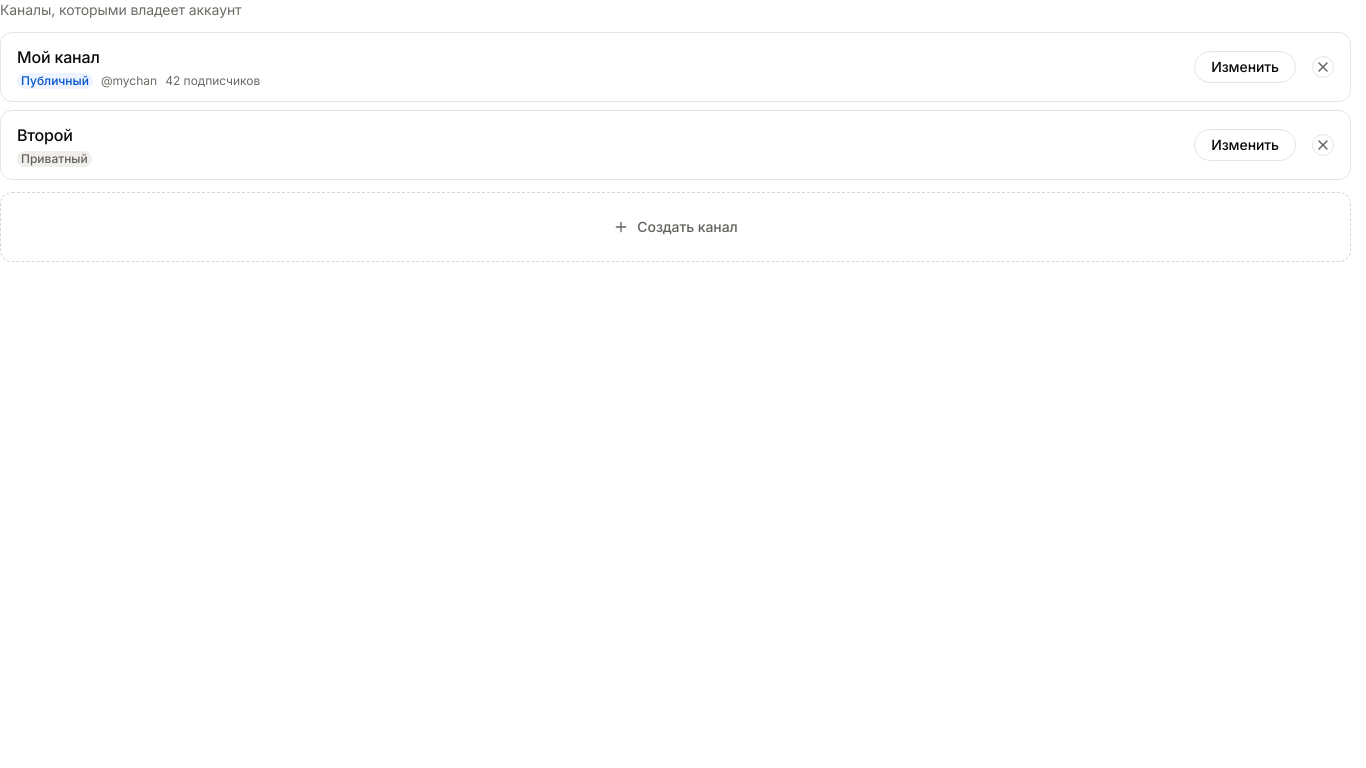
the edit button opens the channel editor with the live detail
Expected: the text "Мой канал" is shown, [17, 47, 100, 67]
Click the button "Изменить" in the row of "42 подписчиков" at [1245, 67], box [1194, 51, 1296, 83]
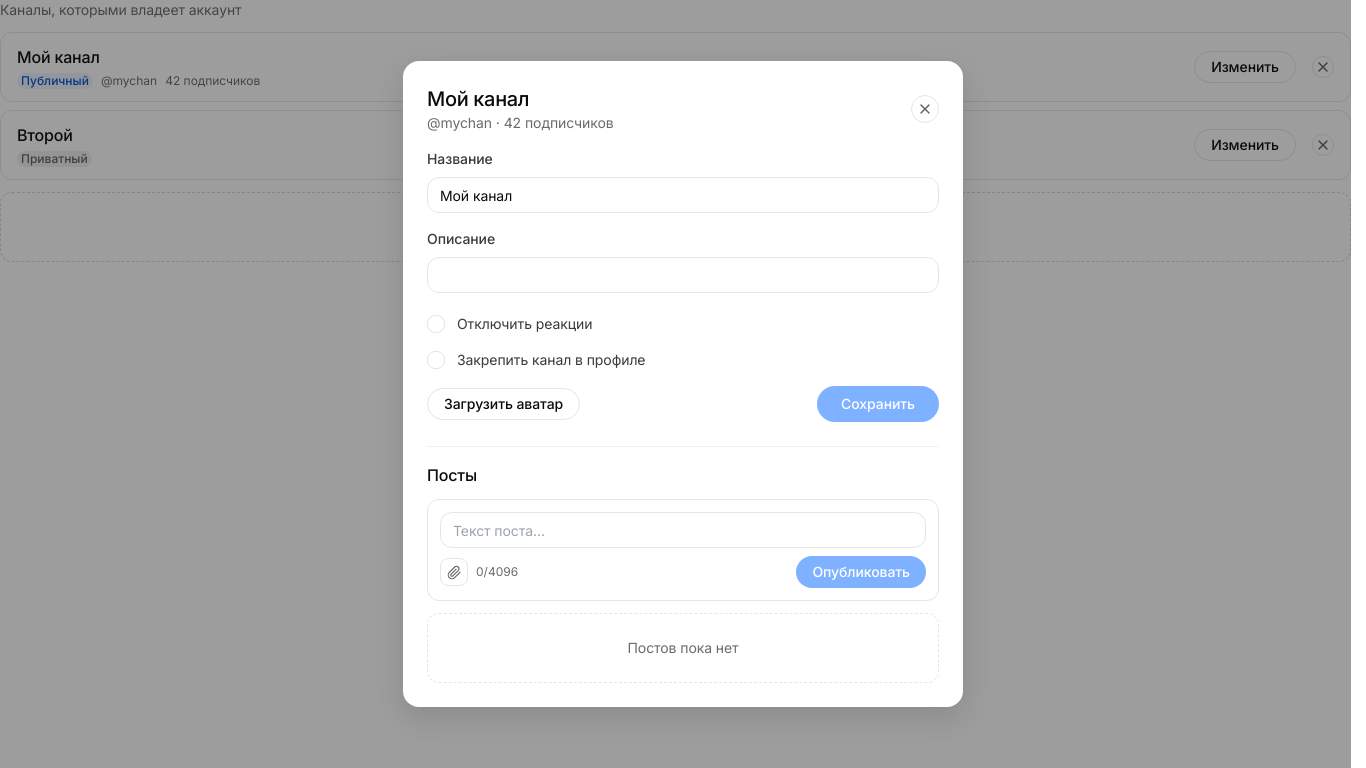
Expected: the field showing "Мой канал" is shown, [427, 177, 939, 213]
Expected: the text "Посты" is shown, [427, 465, 477, 485]
